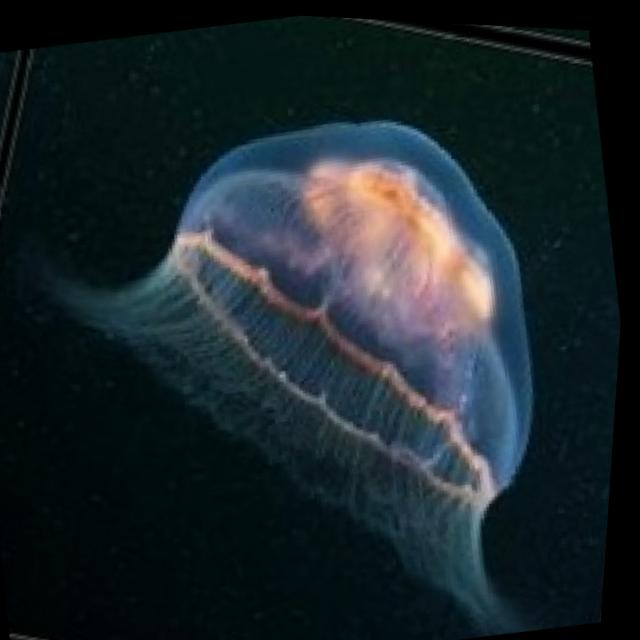Box-jellyfish: (0, 68, 602, 640)
